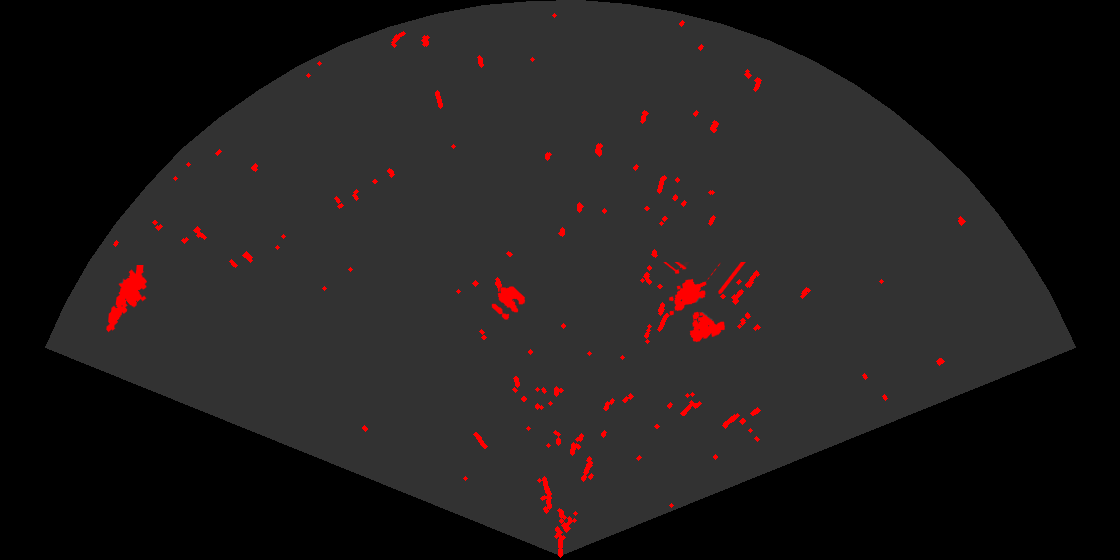ball: (490, 285, 527, 321)
cage: (662, 262, 746, 344)
frogman: (105, 265, 148, 334)
